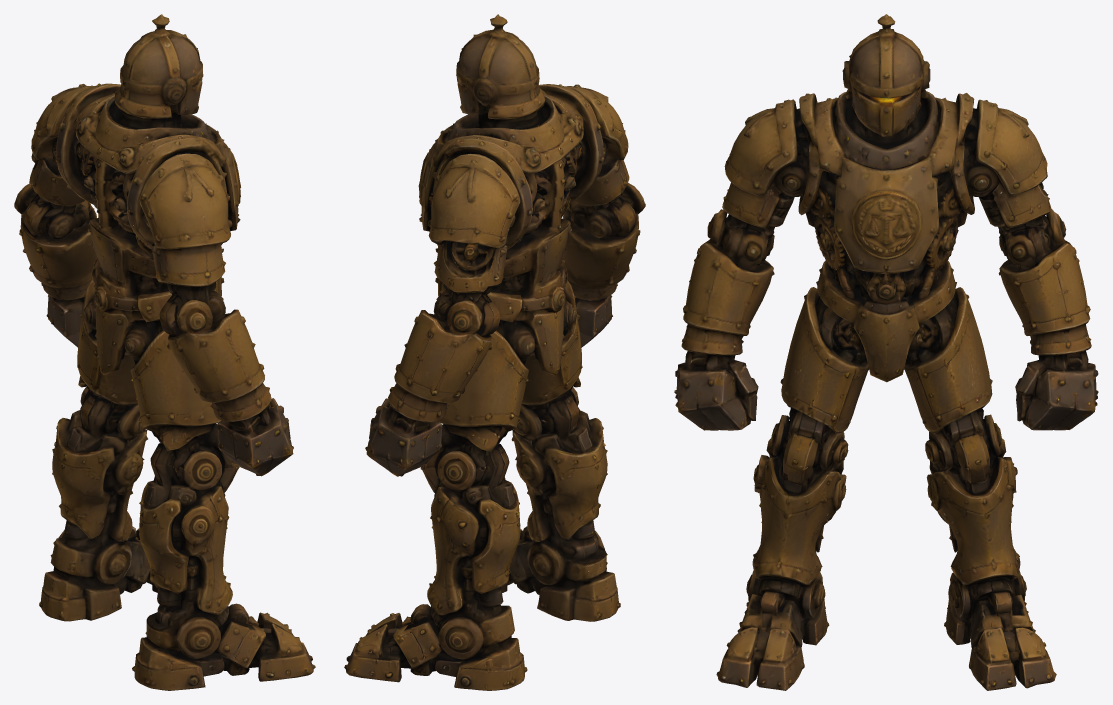
File: GildedConstruct-tripo.glb
3 renders of one model, left to right at view 1: azimuth 30°, elevation 25°; view 2: azimuth 150°, elevation 25°; view 3: azimuth 270°, elevation 25°, orthographic. The views are drawn at different scales.
Parts seen in each view (by area): view 1: tripo_node_023df986-48b8-40bf-b7e1-1abba30ae4ae; view 2: tripo_node_023df986-48b8-40bf-b7e1-1abba30ae4ae; view 3: tripo_node_023df986-48b8-40bf-b7e1-1abba30ae4ae.
Boxes of the visible parts, x1=… form: tripo_node_023df986-48b8-40bf-b7e1-1abba30ae4ae: x1=14, y1=14, x2=315, y2=690; tripo_node_023df986-48b8-40bf-b7e1-1abba30ae4ae: x1=344, y1=14, x2=645, y2=690; tripo_node_023df986-48b8-40bf-b7e1-1abba30ae4ae: x1=674, y1=14, x2=1098, y2=690.
Size of the model in its own units: 0.2644 by 1 by 0.6061.
1 material, 1 textured.
